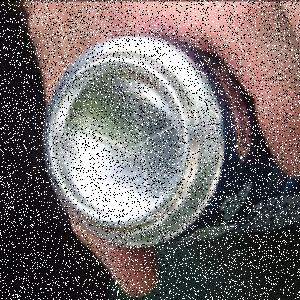Can: (44, 33, 300, 249)
